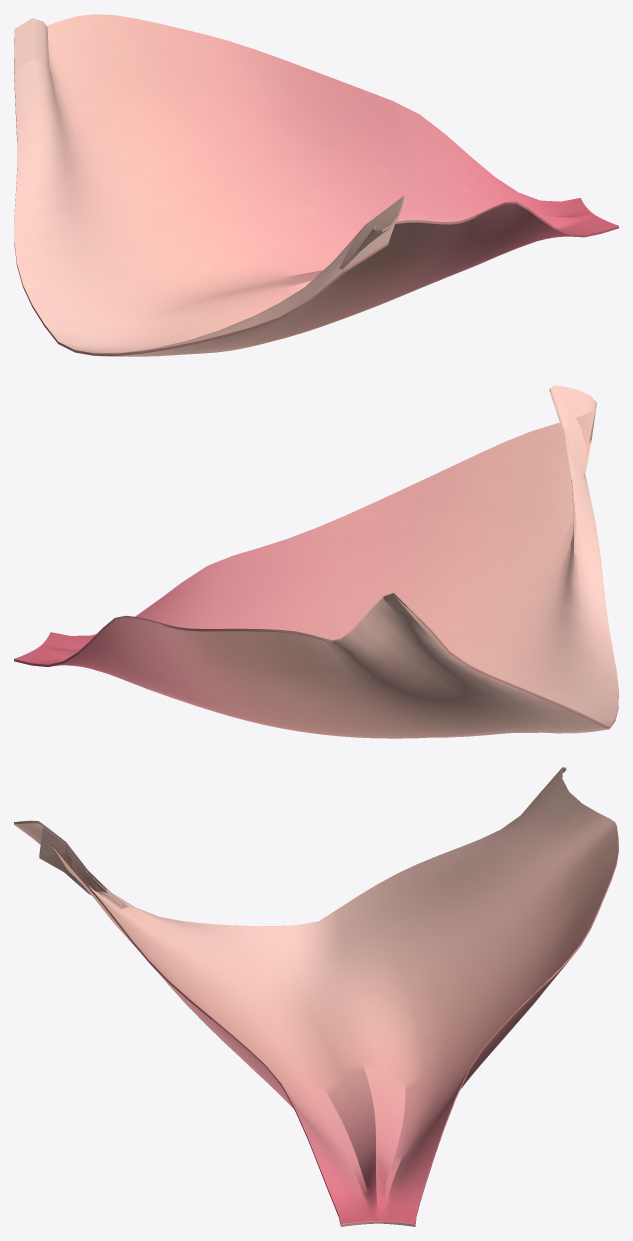
File: papri7.glb
3 views of the same model, one above another, from view 1: azimuth 30°, elevation 25°; view 2: azimuth 150°, elevation 25°; view 3: azimuth 270°, elevation 25° (orthographic). The views are drawn at different scales.
Parts seen in each view (by area): view 1: Papri_07; view 2: Papri_07; view 3: Papri_07.
Part boxes in pixels (<box>): Papri_07: <box>14,14,618,356</box>; Papri_07: <box>14,385,618,738</box>; Papri_07: <box>14,767,618,1226</box>.
Size of the model in its own units: 1.01 by 0.4222 by 0.9393.
Materials: 1 (1 with a texture image).
